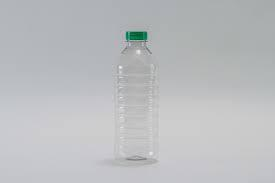bottle: (97, 25, 182, 174)
